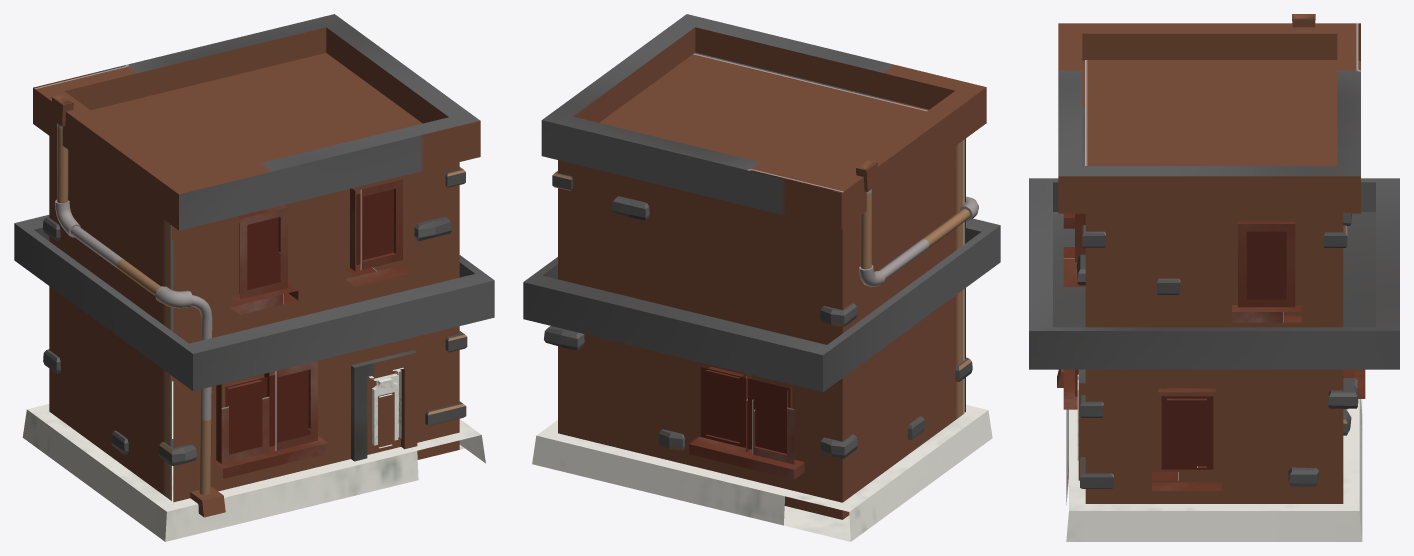
Rendered from Dummy01.fbx.
3 renders of one model, left to right at view 1: azimuth 30°, elevation 25°; view 2: azimuth 150°, elevation 25°; view 3: azimuth 270°, elevation 25°, orthographic. The views are drawn at different scales.
Parts seen in each view (by area): view 1: DummyBuilding; view 2: DummyBuilding; view 3: DummyBuilding.
Boxes of the visible parts, x1=… form: DummyBuilding: x1=14, y1=14, x2=494, y2=541; DummyBuilding: x1=523, y1=14, x2=1000, y2=541; DummyBuilding: x1=1029, y1=14, x2=1399, y2=541.
Bounding box in the file's own units: 752 × 796 × 726.
